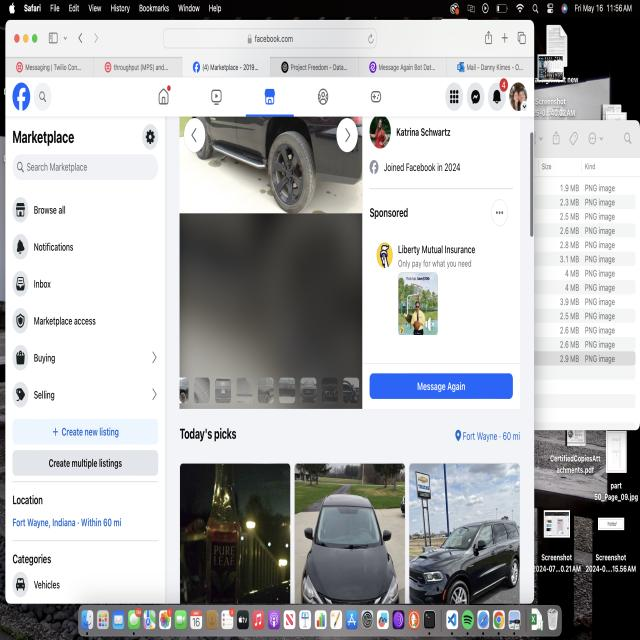message_button: (371, 373, 514, 397)
